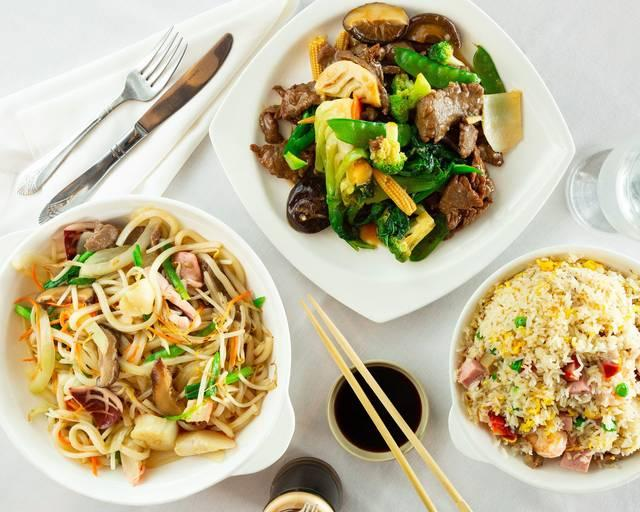Braised Crucian Carp: (210, 1, 571, 319), (1, 196, 298, 506), (445, 247, 637, 495), (326, 360, 431, 461)
